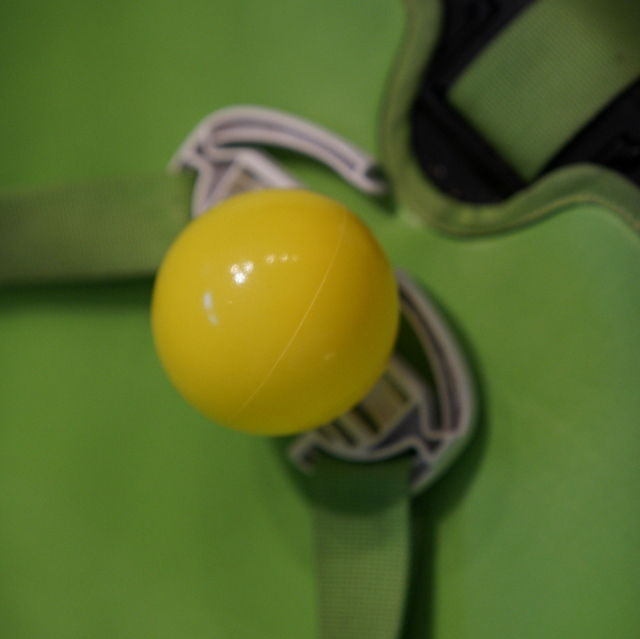Ball: (149, 192, 396, 439)
